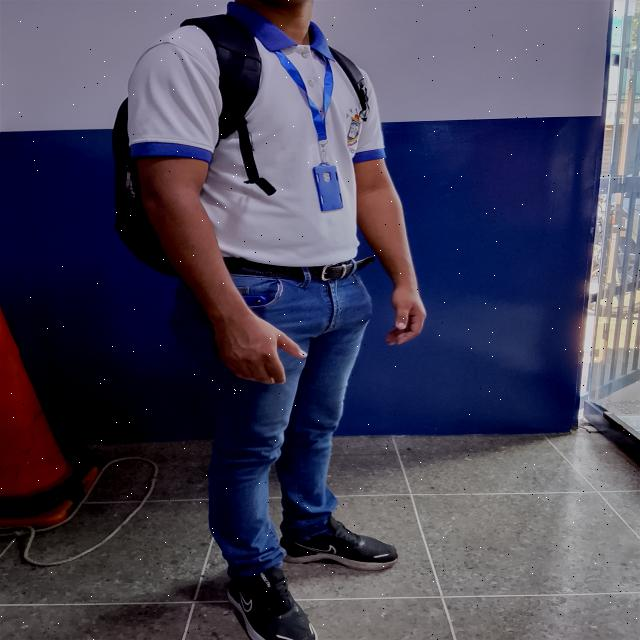carnet: (313, 166, 344, 212)
uniforme_superior: (126, 1, 388, 267)
